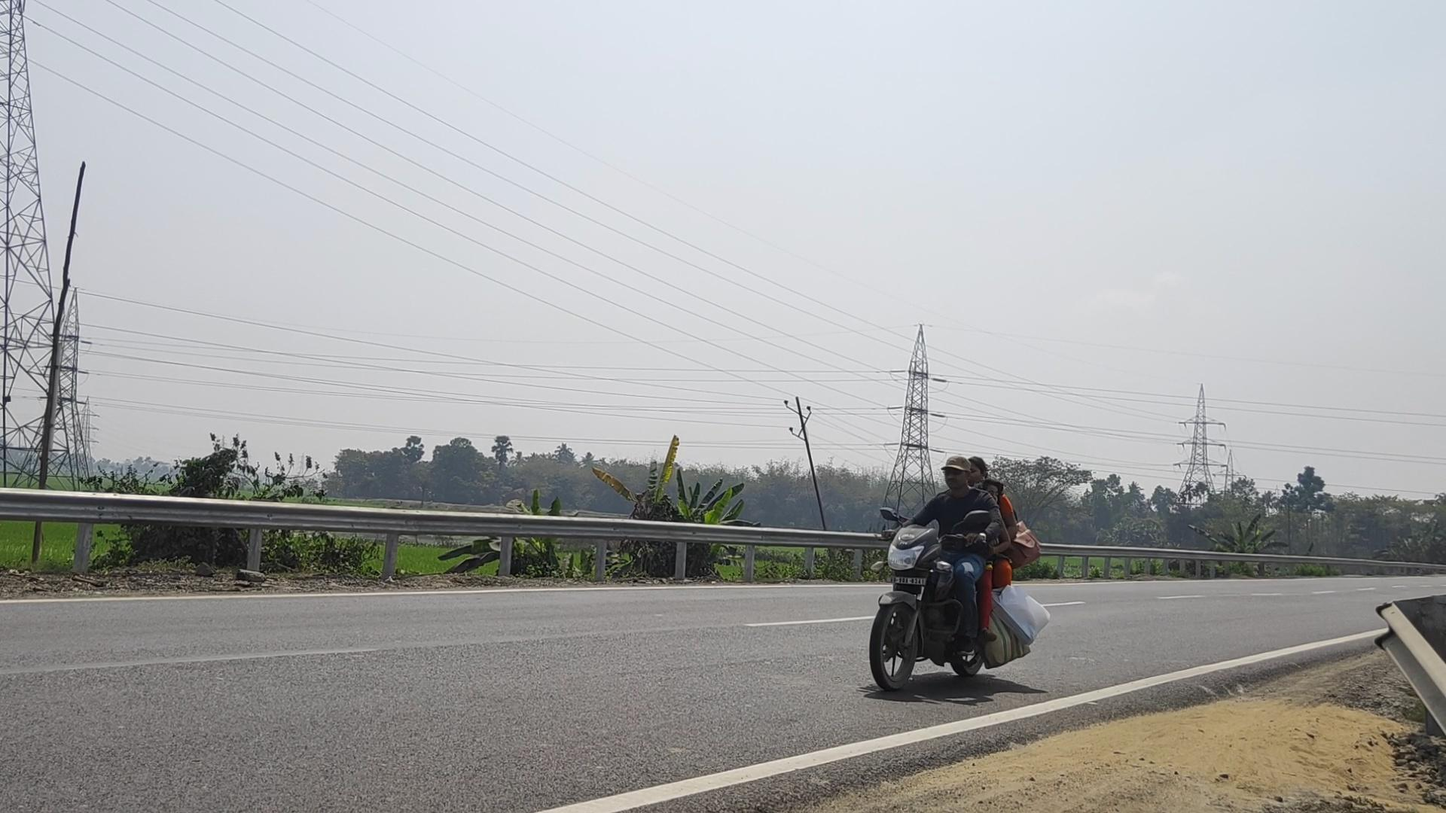bike: (869, 456, 1049, 693)
